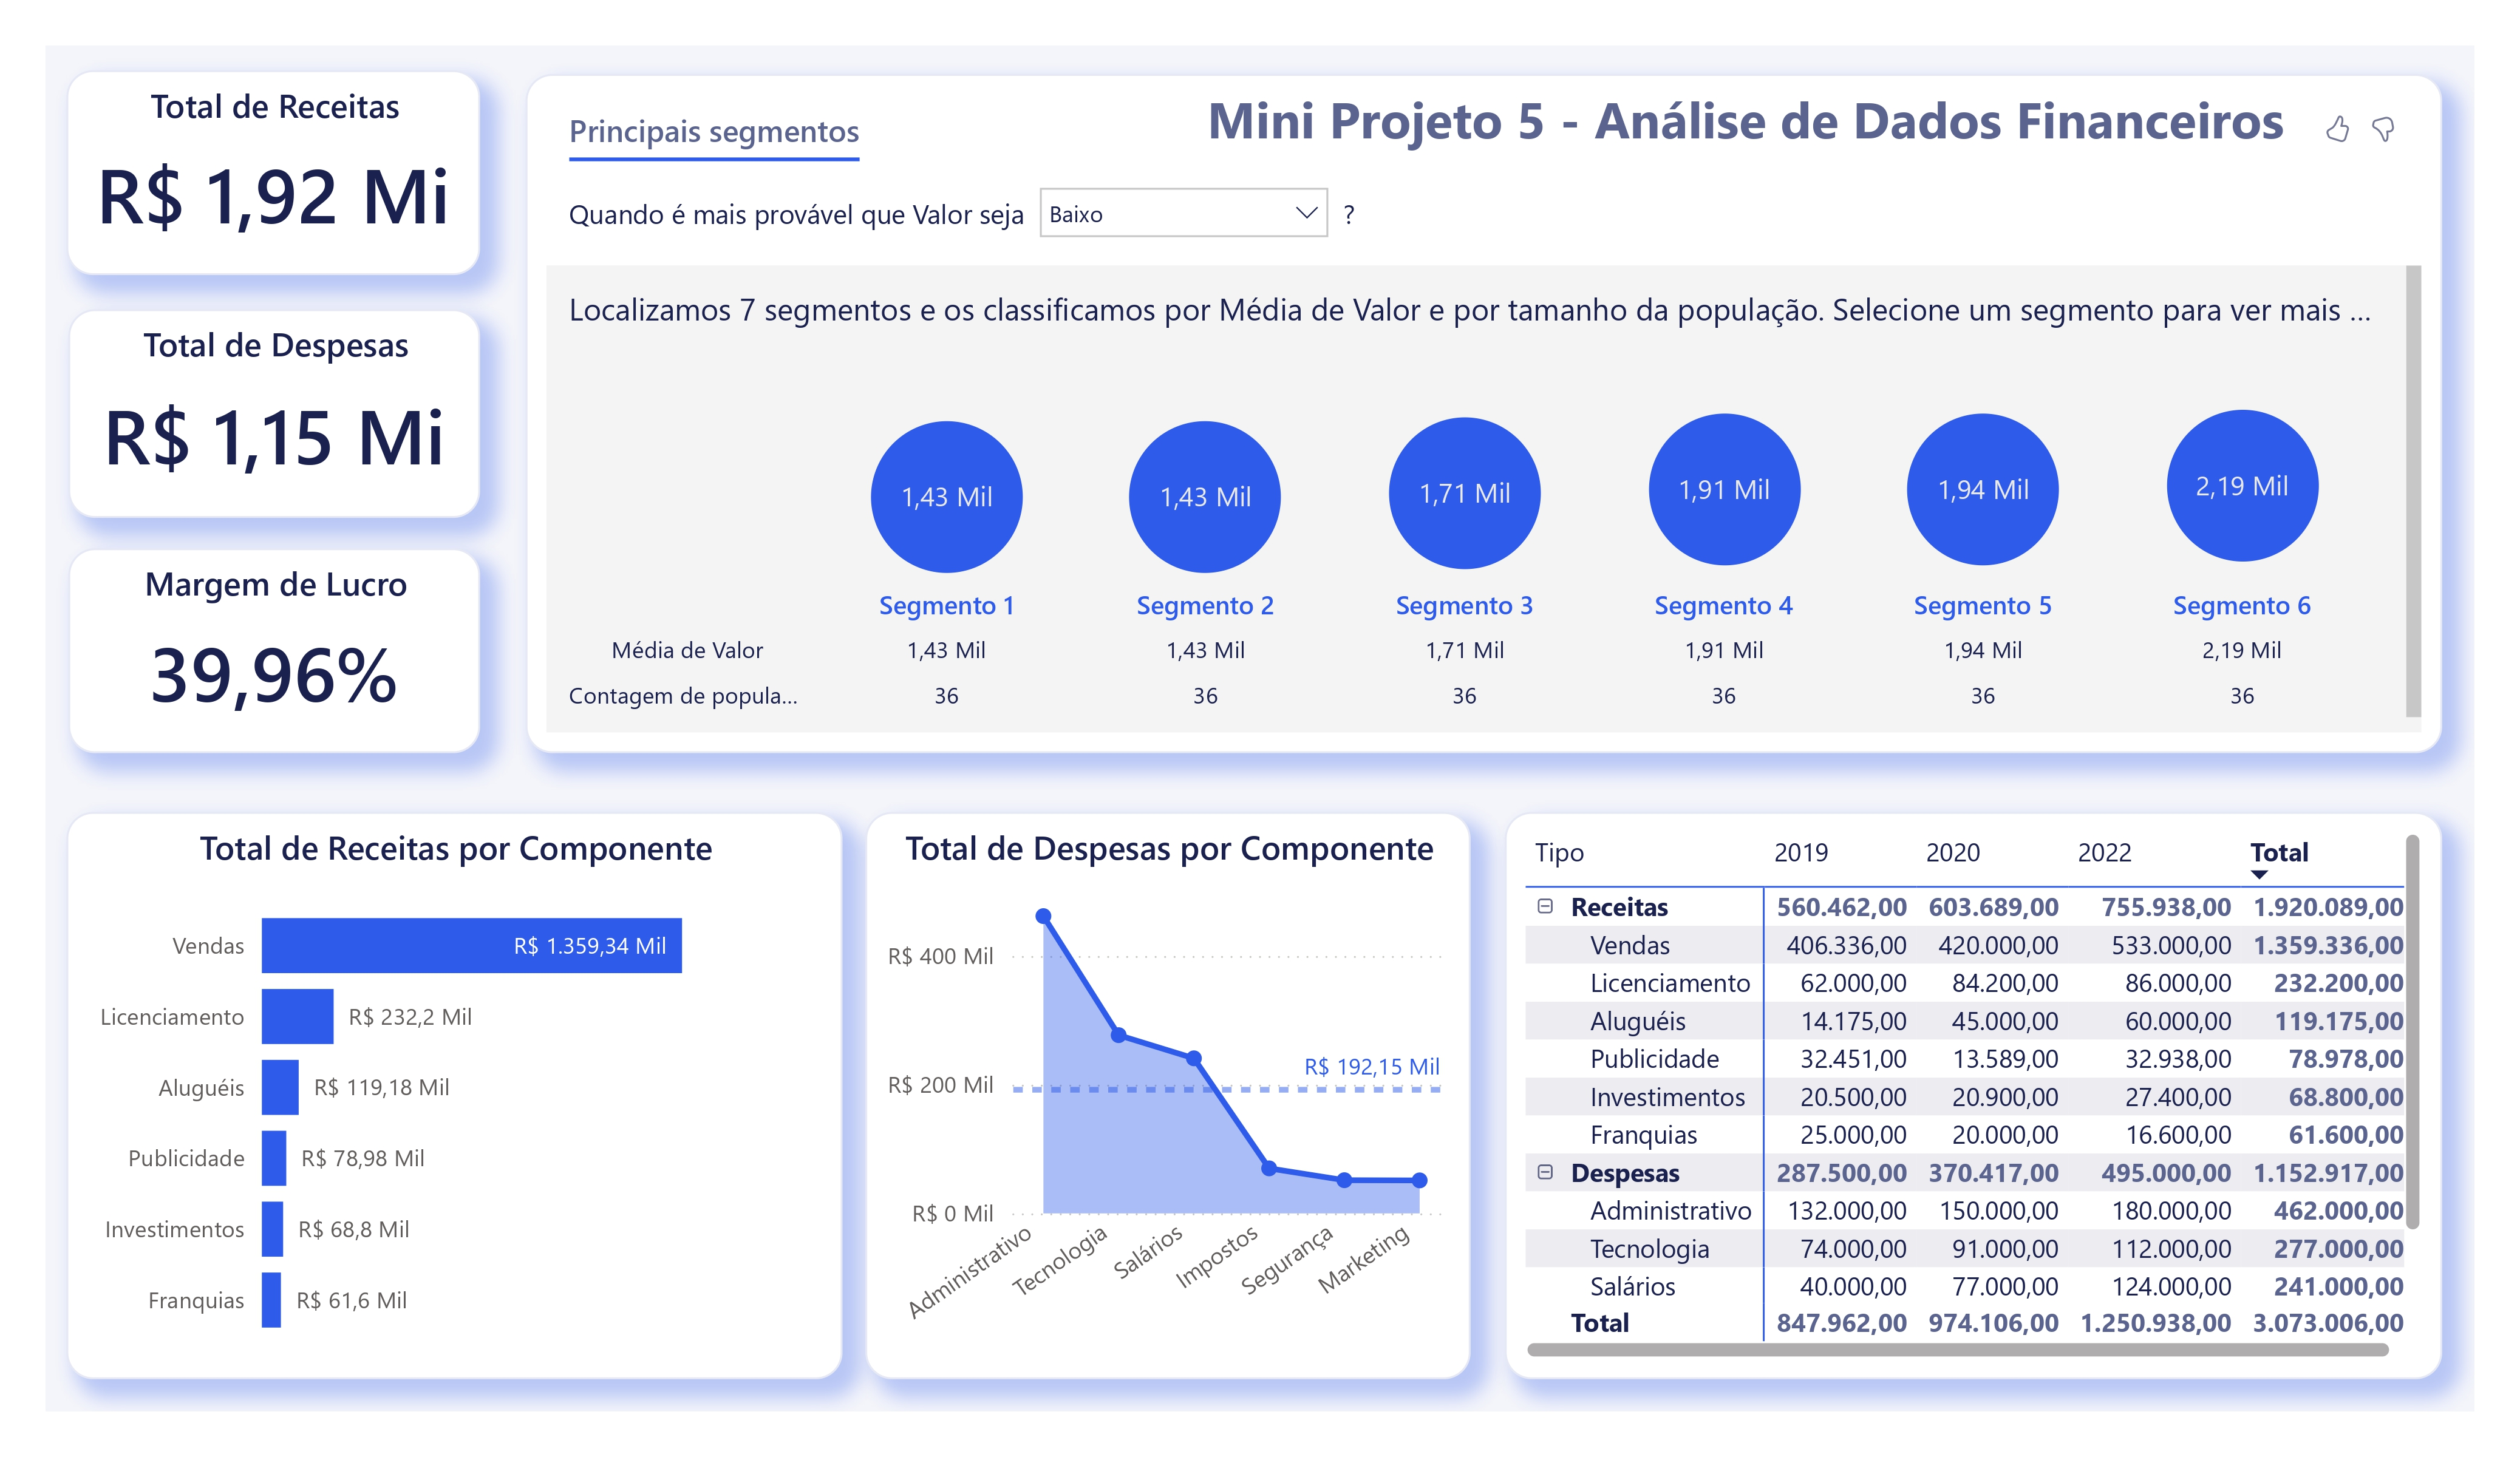

The dashboard page shown, as its layout file describes it:
{"tool":"powerbi","page":{"name":"Página 1","canvas":[1280,720],"ordinal":0},"visuals":[{"type":"card","title":"Total de Receitas","fields":{"Values":["Medidas.TotalReceitas"]},"box":[11,13.5,218.4,108],"z":0},{"type":"card","title":"Total de Despesas","fields":{"Values":["Medidas.TotalDespesas"]},"box":[12.3,138.7,217.2,110.4],"z":2},{"type":"card","title":"Margem de Lucro","fields":{"Values":["Medidas.MargemLucro"]},"box":[12.3,265,217.2,108],"z":3},{"type":"barChart","title":"Total de Receitas por Componente","fields":{"Y":["Medidas.TotalReceitas"],"Category":["DadosFinanceiros.Componente"]},"box":[11,403.7,408.6,299.4],"z":4},{"type":"keyDriversVisual","fields":{"Target":["DadosFinanceiros.Valor"],"ExplainBy":["DadosFinanceiros.Tipo","DadosFinanceiros.Componente"]},"box":[252.8,14.7,1009.8,358.3],"z":5},{"type":"areaChart","title":"Total de Despesas por Componente","fields":{"Category":["DadosFinanceiros.Componente"],"Y":["Medidas.TotalDespesas"]},"box":[431.9,403.7,319,299.4],"z":6},{"type":"pivotTable","fields":{"Rows":["DadosFinanceiros.Tipo","DadosFinanceiros.Componente"],"Values":["Sum(DadosFinanceiros.Valor)"],"Columns":["DadosFinanceiros.Data.Variation.Hierarquia de datas.Ano"]},"box":[769.3,403.7,493.3,299.4],"z":7},{"type":"textbox","box":[560.7,14.7,669.9,52.8],"z":8}]}

Visuals, with their boxes on the page's 1280x720 design canvas (x1, y1, x2, y2). These are canvas units, not pixel positions in the 2520x1457 screenshot, which may show the page scaled, cropped or inside an application window:
"Total de Receitas" card: crop(11, 14, 229, 122)
"Total de Despesas" card: crop(12, 139, 230, 249)
"Margem de Lucro" card: crop(12, 265, 230, 373)
"Total de Receitas por Componente" barChart: crop(11, 404, 420, 703)
keyDriversVisual - DadosFinanceiros.Valor x DadosFinanceiros.Tipo: crop(253, 15, 1263, 373)
"Total de Despesas por Componente" areaChart: crop(432, 404, 751, 703)
pivotTable - DadosFinanceiros.Tipo x DadosFinanceiros.Componente: crop(769, 404, 1263, 703)
textbox: crop(561, 15, 1231, 68)
